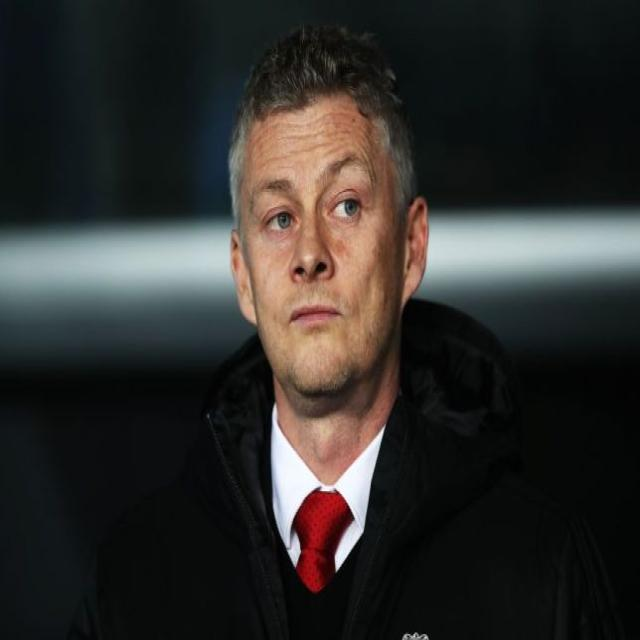human: (117, 46, 570, 640)
